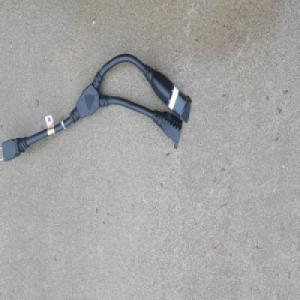Wire: (0, 53, 192, 166)
